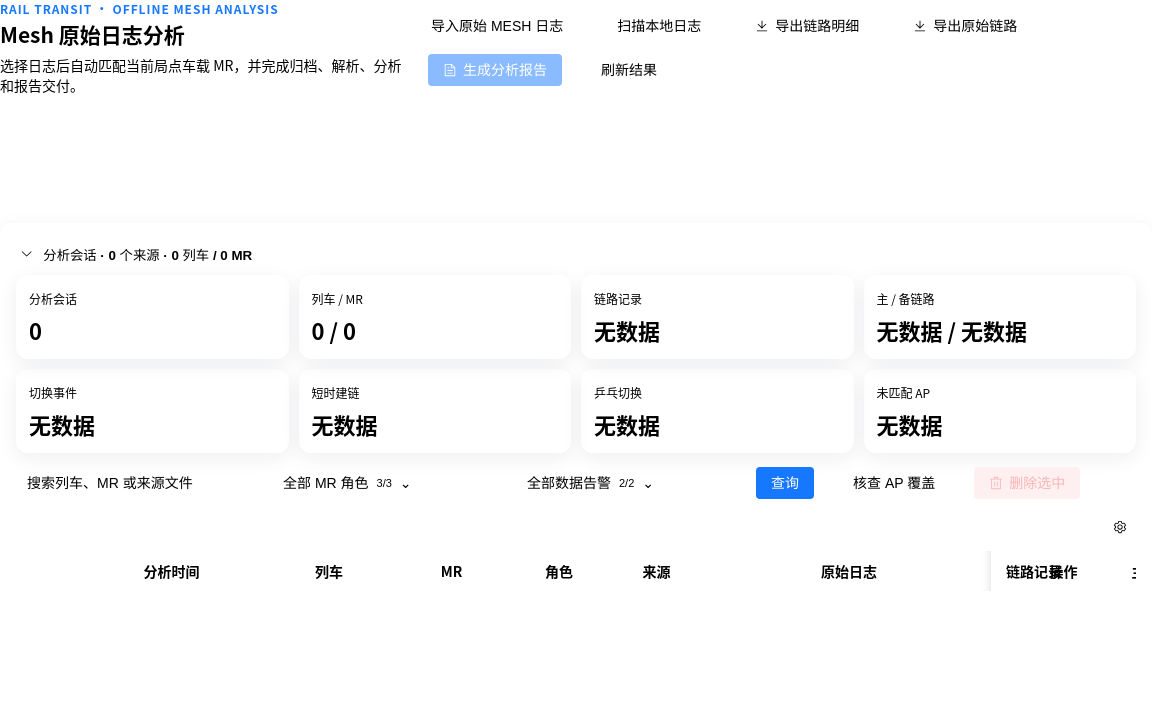
Test: Mesh analysis import context behavior › loads the lightweight import context once without starting a full profile sync
Click the button "导入原始 MESH 日志".
click(497, 26)  # box [416,10,578,42]
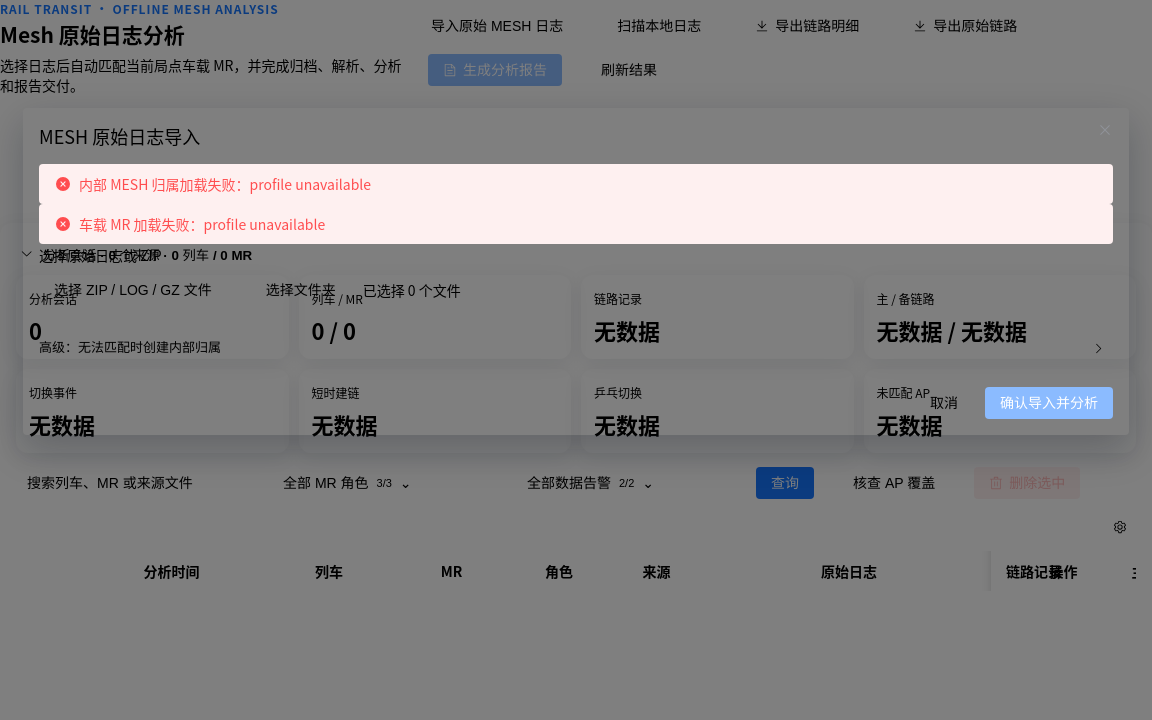
Check: the text "内部 MESH 归属加载失败：profile unavailable" is shown, box [79,172,371,196]
Check: the text "车载 MR 加载失败：profile unavailable" is shown, box [79,212,325,236]
